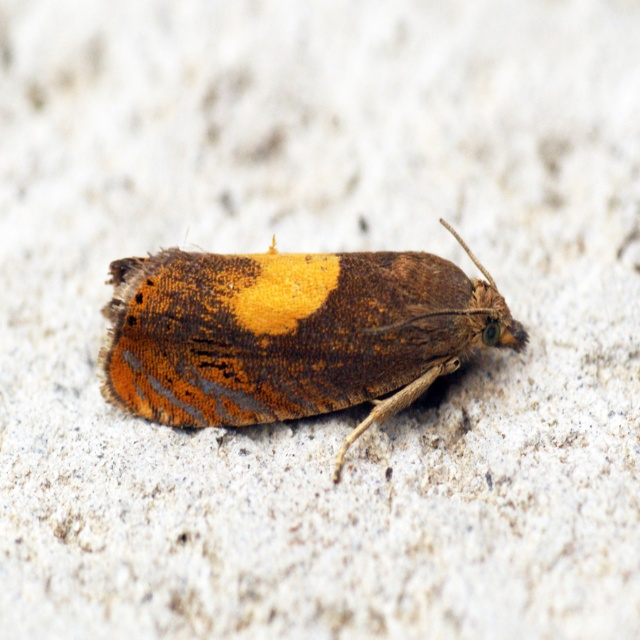Moths and butterflies: (97, 216, 530, 486)
